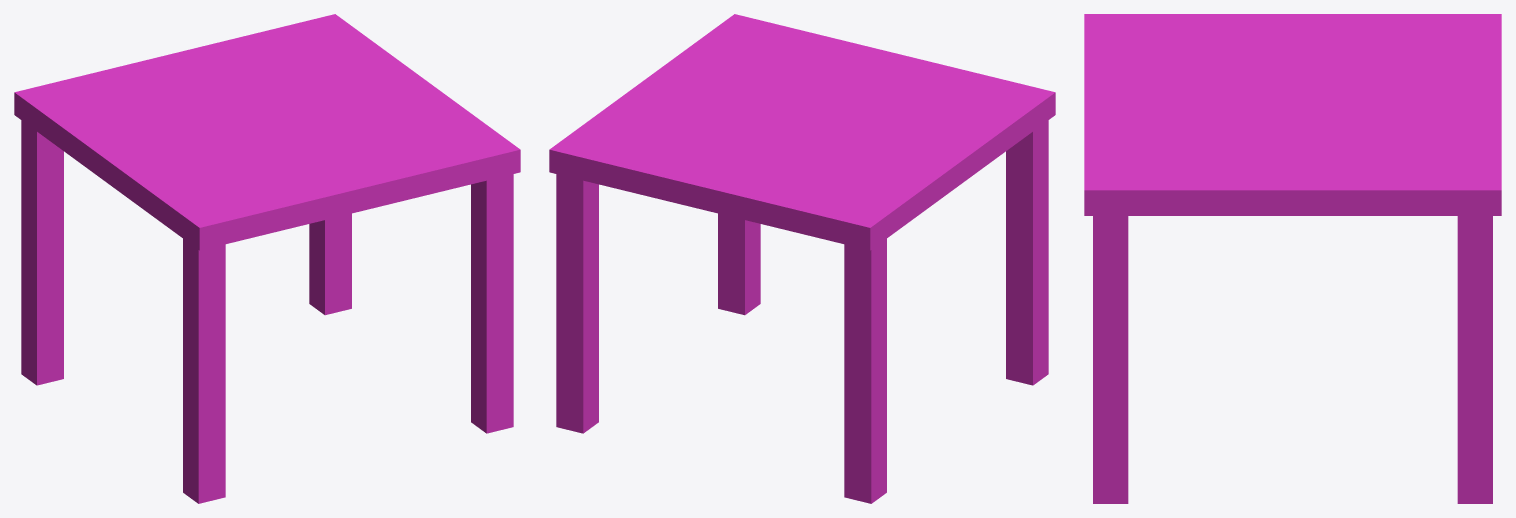
The model's file is puzzle_room_table.glb.
3 views of the same model, side by side, from view 1: azimuth 30°, elevation 25°; view 2: azimuth 150°, elevation 25°; view 3: azimuth 270°, elevation 25° (orthographic). The views are drawn at different scales.
Parts seen in each view (by area): view 1: table; view 2: table; view 3: table.
Boxes of the visible parts, left/top/right/bottom form: table: left=14, top=14, right=520, bottom=503; table: left=549, top=14, right=1055, bottom=503; table: left=1084, top=14, right=1501, bottom=503.
Bounding box in the file's own units: 2.32 × 1.93 × 2.32.
